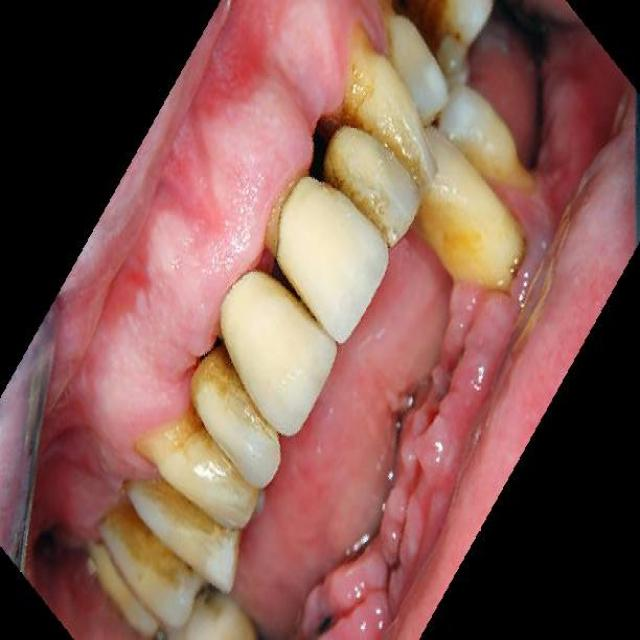calculus: (167, 357, 279, 471), (118, 468, 238, 573), (324, 42, 429, 150), (142, 418, 250, 520), (88, 512, 188, 620)
